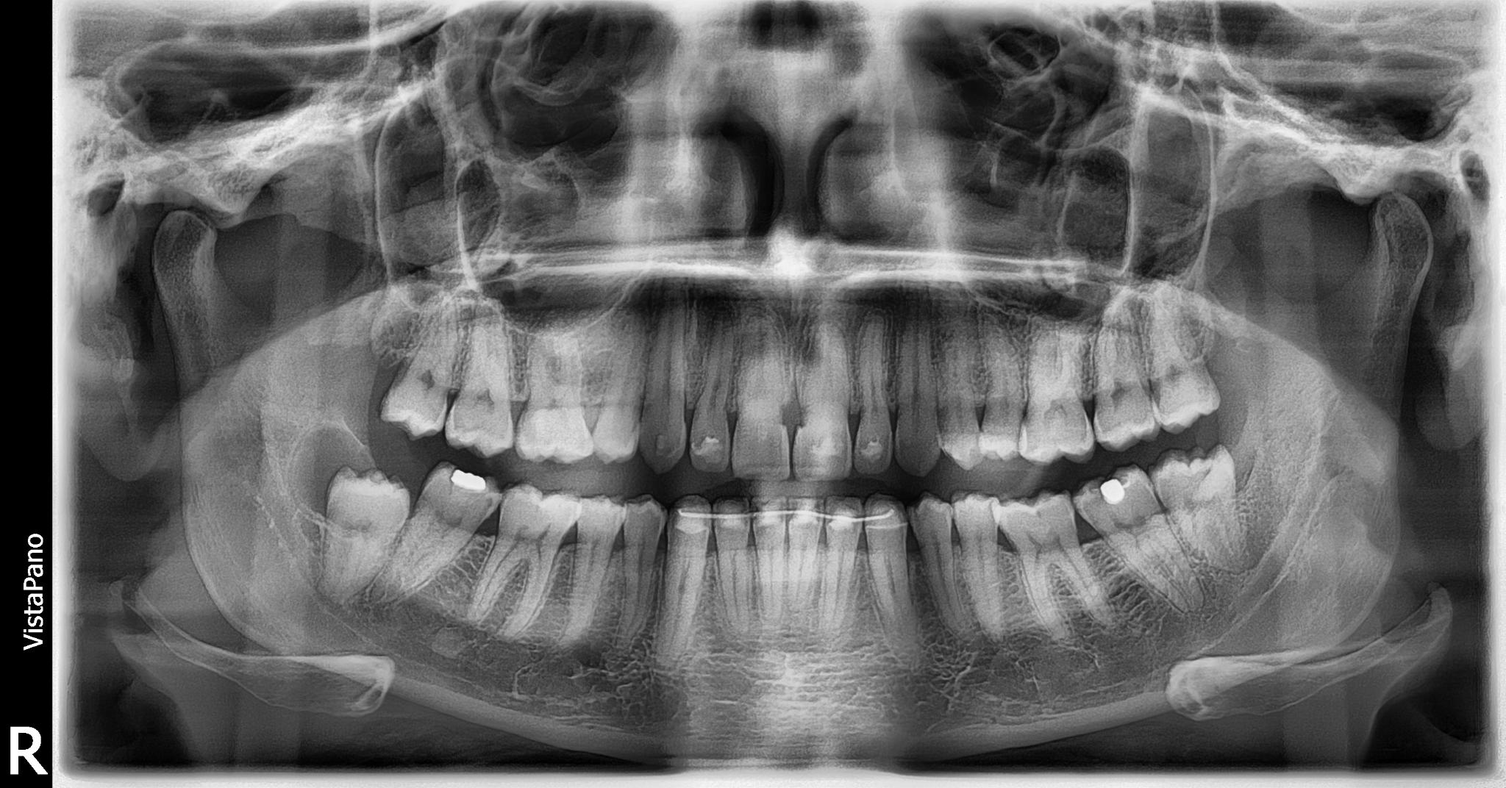Premolars: (478, 238, 1484, 783), (517, 232, 1506, 774), (492, 223, 1506, 702), (564, 212, 1506, 715), (538, 205, 1506, 662), (563, 220, 1506, 661), (426, 265, 1281, 699), (266, 211, 720, 788), (398, 320, 1189, 649), (193, 210, 673, 681), (174, 304, 568, 788), (162, 192, 437, 655)
